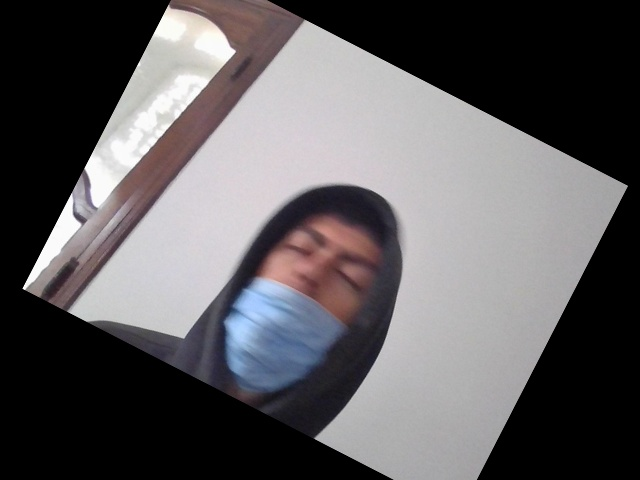mask_weared_incorrect: (223, 205, 383, 401)
